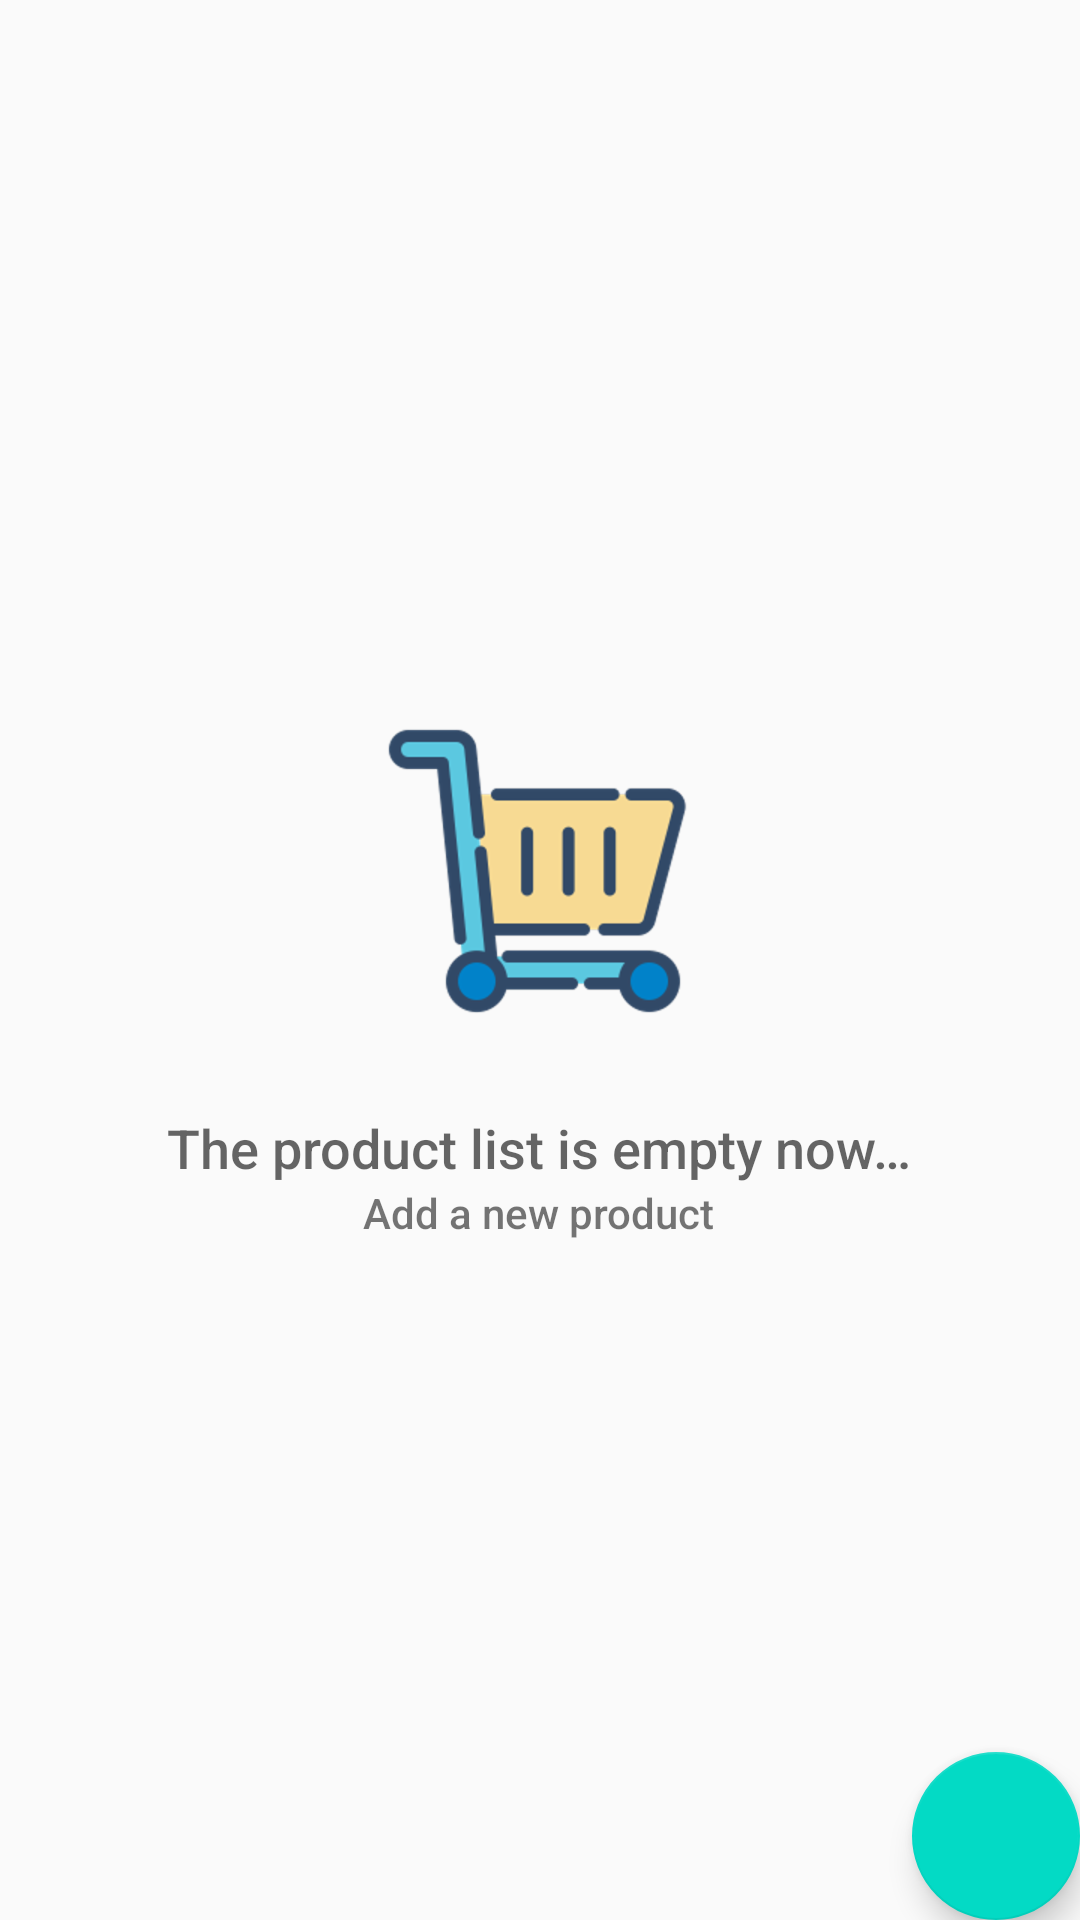

Named icons in this screenshot (1080px x 1920px) and their bounding boxes, (x1, y1, x2, y2):
shop: (388, 729, 686, 1013)
